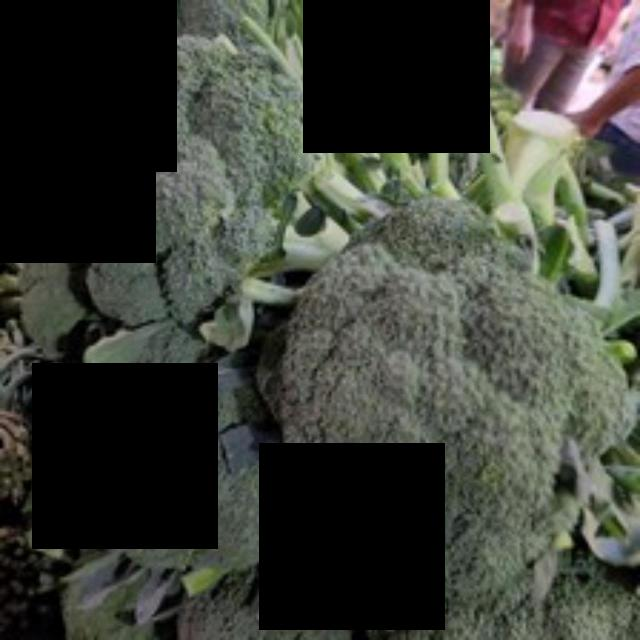broccoli: (286, 183, 636, 577)
